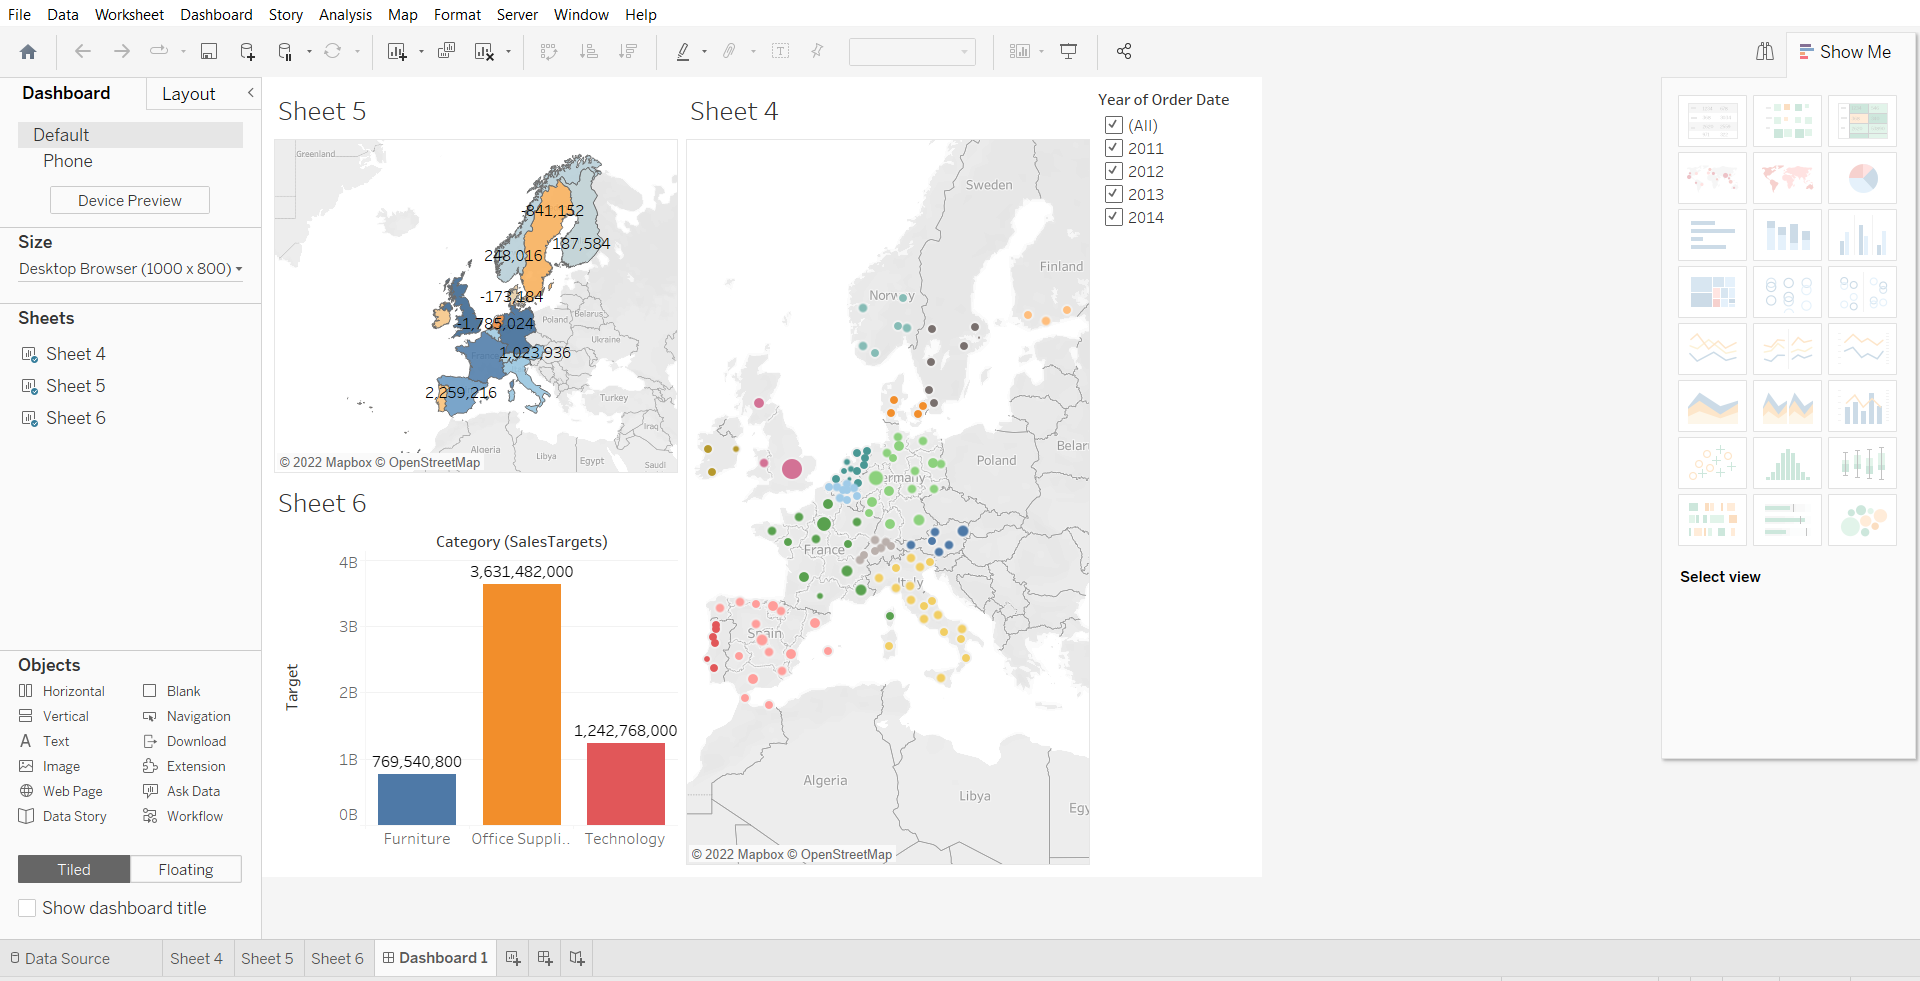

This screenshot's page, from the dashboard's own definition file:
{"tool":"tableau","page":{"name":"Dashboard 1","canvas":[1000,800],"ordinal":0},"visuals":[{"type":"worksheet","title":"Sheet 5","mark":"Automatic","box":[8,8,412,392]},{"type":"worksheet","title":"Sheet 4","mark":"Automatic","box":[420,8,412,784]},{"type":"filter","title":"Sheet 4","param":"[federated.06ufow4087nk4i19ld9xw0freqsw].[yr:Order Date:ok]","box":[832,8,160,151]},{"type":"worksheet","title":"Sheet 6","mark":"Automatic","rows":["Target"],"cols":["Category (SalesTargets)"],"box":[8,400,412,392]}]}

Visuals, with their boxes on the page's 1000x800 design canvas (x1, y1, x2, y2). These are canvas units, not pixel positions in the 1920x981 screenshot, which may show the page scaled, cropped or inside an application window:
"Sheet 5" worksheet: x1=8, y1=8, x2=420, y2=400
"Sheet 4" worksheet: x1=420, y1=8, x2=832, y2=792
"Sheet 4" filter: x1=832, y1=8, x2=992, y2=159
"Sheet 6" worksheet: x1=8, y1=400, x2=420, y2=792
